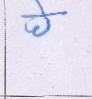e_matra: (31, 0, 47, 14)
